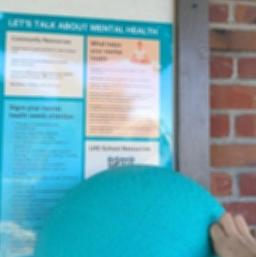algae: (33, 163, 251, 257)
